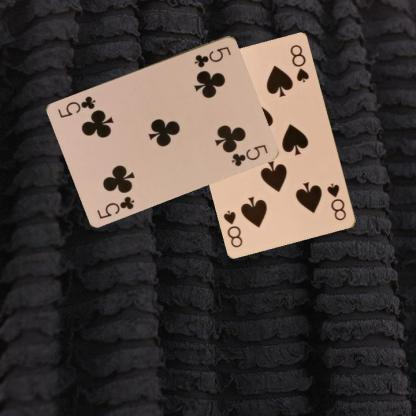5c: (94, 193, 136, 220), (192, 43, 232, 69)
8s: (324, 180, 348, 222)
